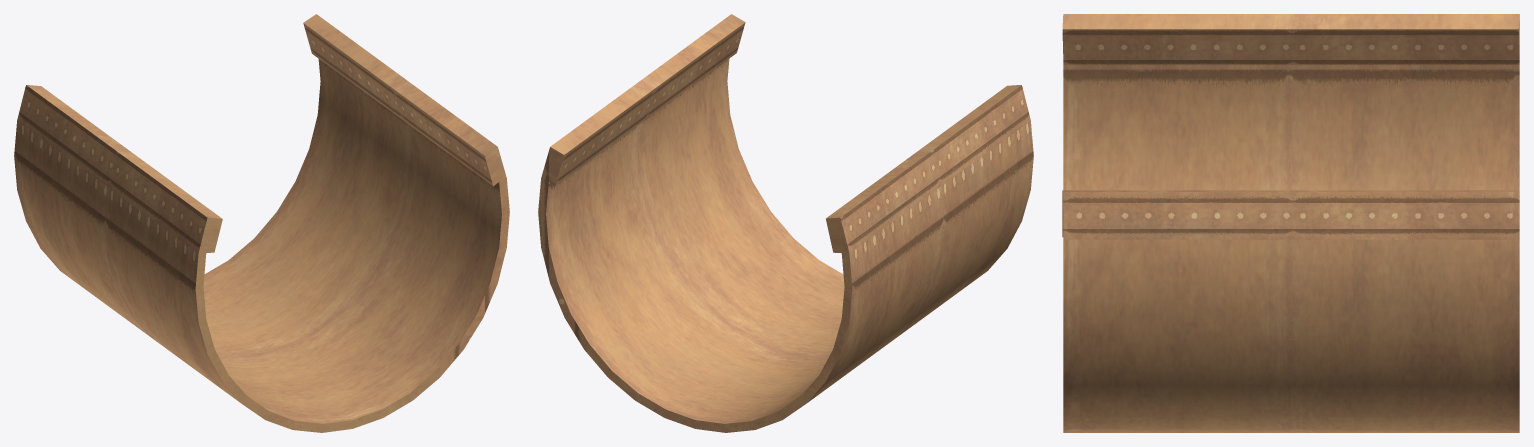
Rendered from Small_Wall_A.002.fbx.
The picture shows the model from 3 angles, left to right: view 1: azimuth 30°, elevation 25°; view 2: azimuth 150°, elevation 25°; view 3: azimuth 270°, elevation 25°; orthographic projection. The views are drawn at different scales.
Parts seen in each view (by area): view 1: Small_Wall_A.002; view 2: Small_Wall_A.002; view 3: Small_Wall_A.002.
Boxes of the visible parts, x1,y1,x2,y2 form: Small_Wall_A.002: (14, 14, 509, 432); Small_Wall_A.002: (538, 14, 1033, 432); Small_Wall_A.002: (1062, 14, 1519, 432).
Bounding box in the file's own units: 4 × 3 × 4.01.
